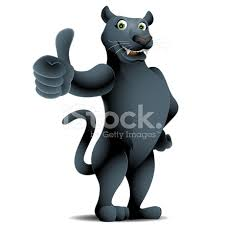thumbs_up: (16, 18, 95, 98)
